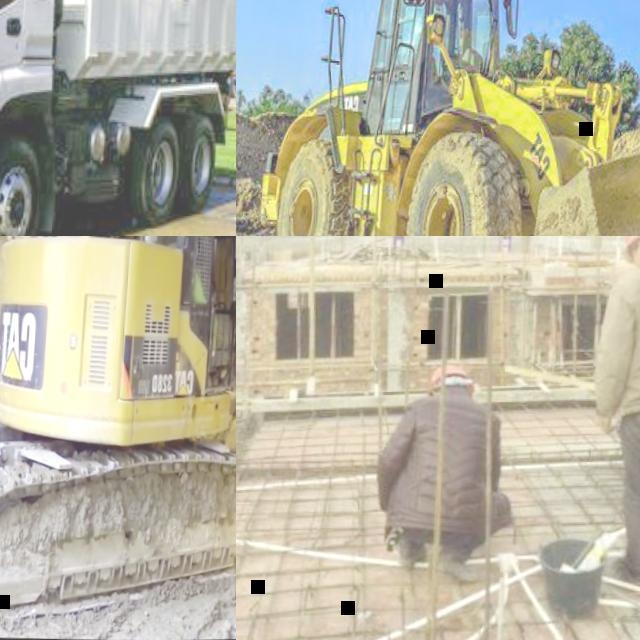Hardhat: (428, 364, 476, 394)
NO-Mask: (630, 243, 640, 268)
NO-Safety Vest: (393, 394, 501, 530)
Person: (372, 356, 522, 588), (589, 236, 640, 592), (187, 255, 222, 375), (606, 396, 640, 491)
Safety Vest: (193, 275, 205, 302)
machinery: (0, 236, 236, 635), (253, 0, 640, 236), (0, 0, 236, 236)
